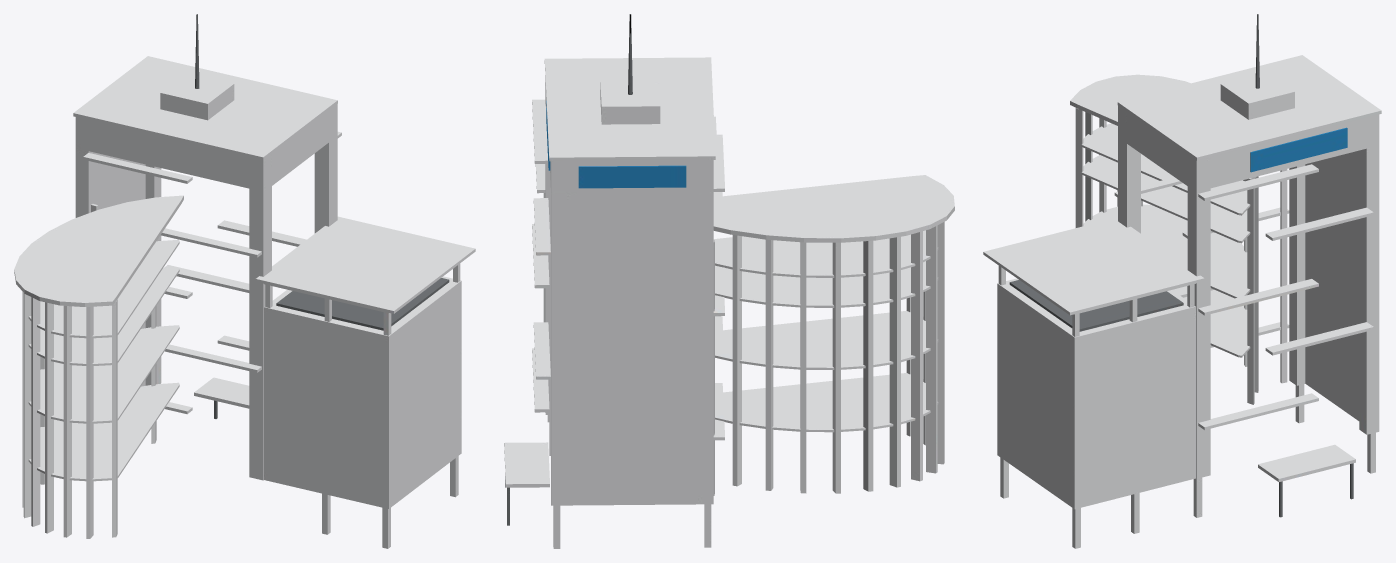
The model's file is ecobank_siege.glb.
3 views of the same model, side by side, from view 1: azimuth 30°, elevation 25°; view 2: azimuth 150°, elevation 25°; view 3: azimuth 270°, elevation 25° (orthographic). The views are drawn at different scales.
Visible parts, largest first — view 1: Ecobank_Siege; view 2: Ecobank_Siege; view 3: Ecobank_Siege.
Boxes of the visible parts, x1,y1,x2,y2 form: Ecobank_Siege: [14, 14, 475, 548]; Ecobank_Siege: [504, 14, 954, 548]; Ecobank_Siege: [983, 14, 1381, 548].
Size of the model in its own units: 0.3357 by 0.35 by 0.2793.
1 material, 1 textured.
